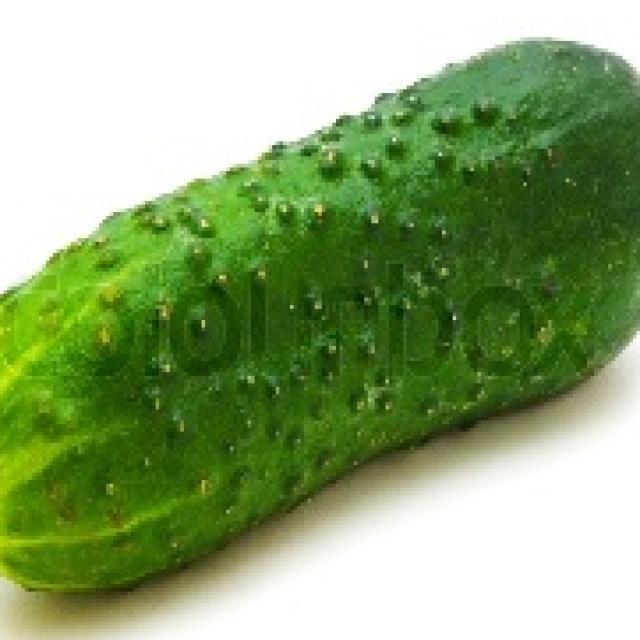cucumber: (0, 34, 640, 592)
